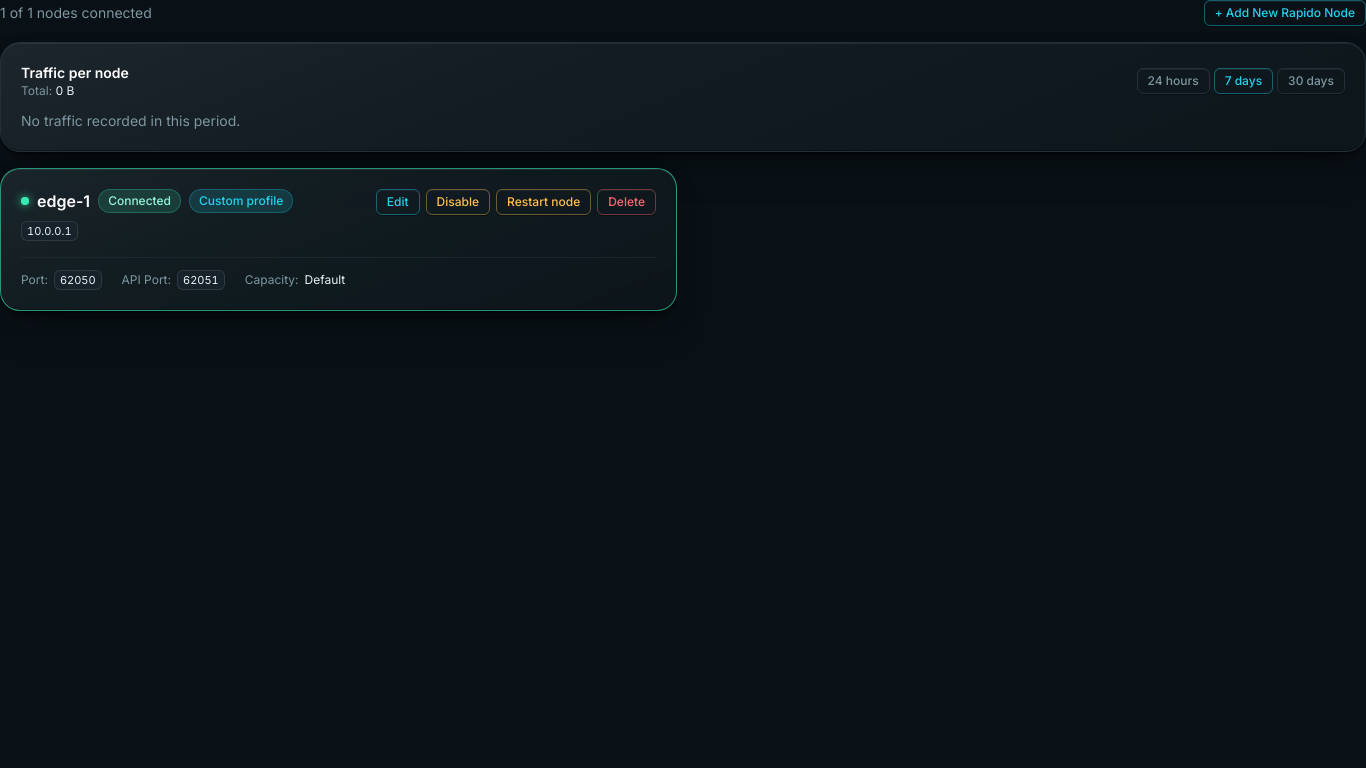
Advanced section of the node form › keeps a tag the node names but the panel no longer has, so it can be unticked
Click the button "Edit".
click(398, 202)  # box x1=376 y1=189 x2=420 y2=215
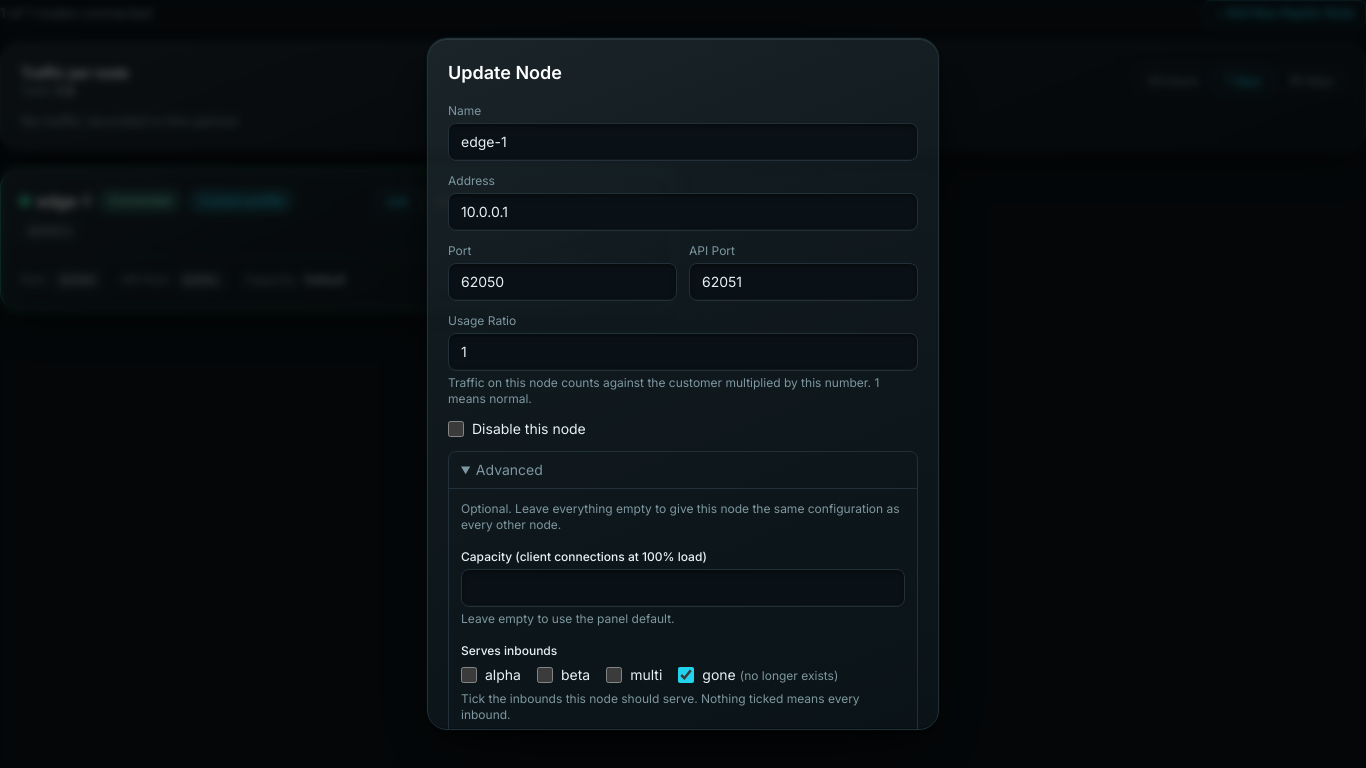
Result: the checkbox labelled "gone(no longer exists)" is checked at x1=678 y1=667 x2=694 y2=683
Result: the text "(no longer exists)" is shown at x1=740 y1=668 x2=838 y2=683
